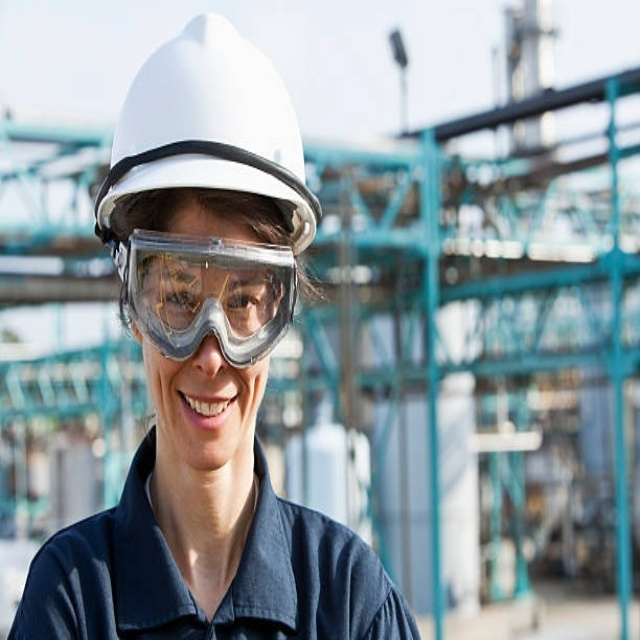Gafas: (114, 229, 301, 364)
Sin_mascara: (166, 376, 242, 452)
